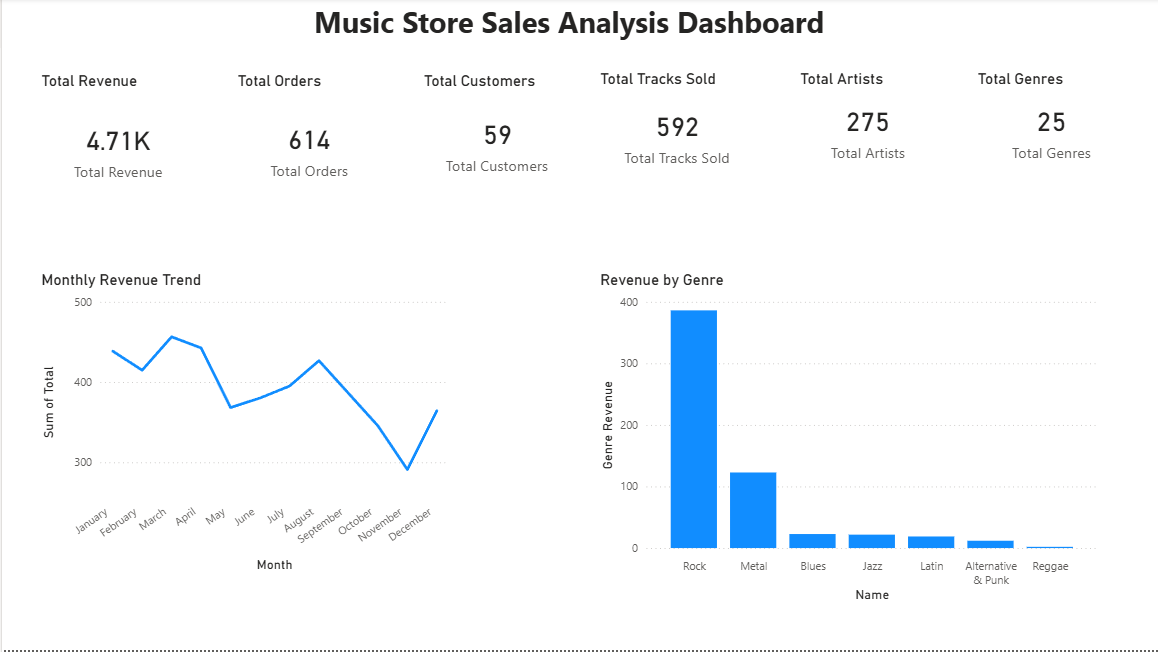

The dashboard page shown, as its layout file describes it:
{"tool":"powerbi","page":{"name":"Page 1","canvas":[1280,720],"ordinal":0},"visuals":[{"type":"card","title":"Total Revenue","fields":{"Values":["music_store_analysis album.Total Revenue"]},"box":[38.3,81.7,180,150],"z":0},{"type":"card","title":"Total Customers","fields":{"Values":["music_store_analysis album.Total Customers"]},"box":[461.7,81.7,171.7,136.7],"z":1000},{"type":"card","title":"Total Orders","fields":{"Values":["music_store_analysis album.Total Orders"]},"box":[255,81.7,168.3,148.3],"z":2000},{"type":"card","title":"Total Artists","fields":{"Values":["music_store_analysis album.Total Artists"]},"box":[876.7,78.3,160,113.3],"z":4000},{"type":"card","title":"Total Genres","fields":{"Values":["music_store_analysis album.Total Genres"]},"box":[1073.3,78.3,173.3,113.3],"z":5000},{"type":"lineChart","title":"Monthly Revenue Trend","fields":{"Category":["music_store_analysis invoice.InvoiceDate.Variation.Date Hierarchy.Year","music_store_analysis invoice.InvoiceDate.Variation.Date Hierarchy.Month"],"Y":["Sum(music_store_analysis invoice.Total)"]},"box":[38.3,301.7,460,338.3],"z":7000},{"type":"clusteredColumnChart","title":"Revenue by Genre","fields":{"Category":["music_store_analysis genre.Name"],"Y":["music_store_analysis album.Genre Revenue"]},"box":[656.7,301.7,560,371.7],"z":9000},{"type":"card","title":"Total Tracks Sold","fields":{"Values":["music_store_analysis album.Total Tracks Sold"]},"box":[656.7,78.3,180,125],"z":9005},{"type":"textbox","box":[340,0,718.3,61.7],"z":9006}]}

Visuals, with their boxes in screenshot pixels (x1, y1, x2, y2), scaled from the page's 1280x720 canvas onto the 1158x652 screenshot:
"Total Revenue" card: left=35, top=74, right=197, bottom=210
"Total Customers" card: left=418, top=74, right=573, bottom=198
"Total Orders" card: left=231, top=74, right=383, bottom=208
"Total Artists" card: left=793, top=71, right=938, bottom=174
"Total Genres" card: left=971, top=71, right=1128, bottom=174
"Monthly Revenue Trend" lineChart: left=35, top=273, right=451, bottom=580
"Revenue by Genre" clusteredColumnChart: left=594, top=273, right=1101, bottom=610
"Total Tracks Sold" card: left=594, top=71, right=757, bottom=184
textbox: left=308, top=0, right=957, bottom=56
